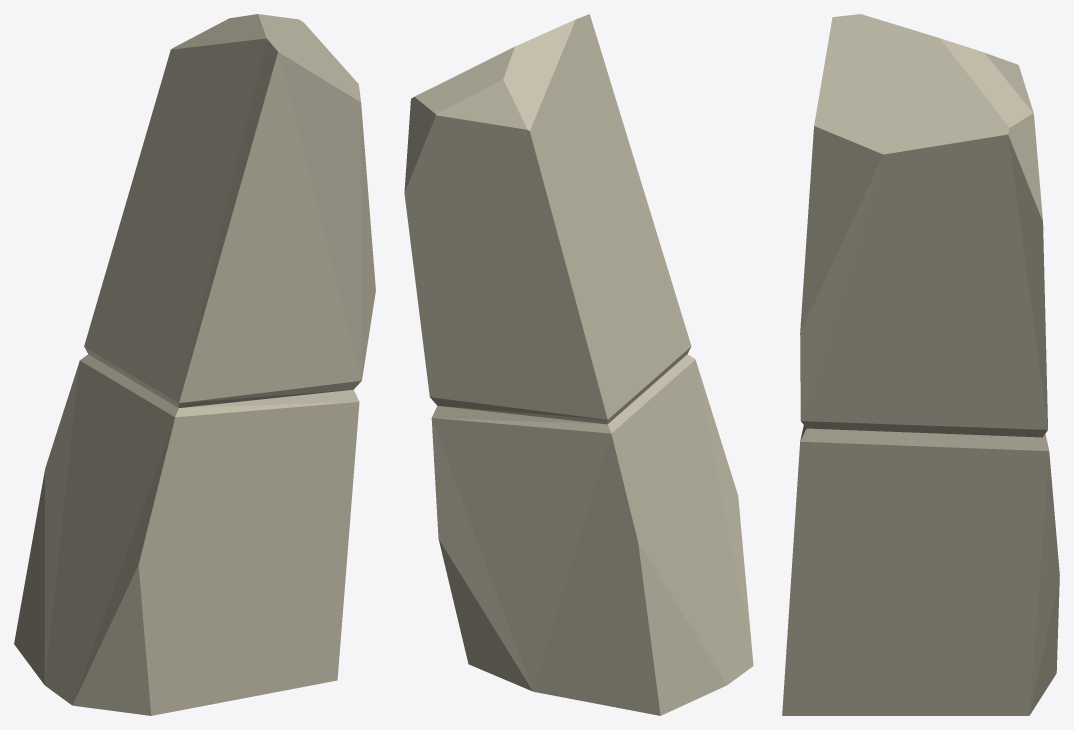
File: Rock_Square_l_13.fbx
3 renders of one model, left to right at view 1: azimuth 30°, elevation 25°; view 2: azimuth 150°, elevation 25°; view 3: azimuth 270°, elevation 25°, orthographic. The views are drawn at different scales.
Parts seen in each view (by area): view 1: Rock_Square_l_13; view 2: Rock_Square_l_13; view 3: Rock_Square_l_13.
Part boxes in pixels (left/top/right/bottom): Rock_Square_l_13: left=14, top=14, right=375, bottom=715; Rock_Square_l_13: left=404, top=14, right=753, bottom=715; Rock_Square_l_13: left=782, top=14, right=1059, bottom=715.
Size of the model in its own units: 194 by 392 by 145.
